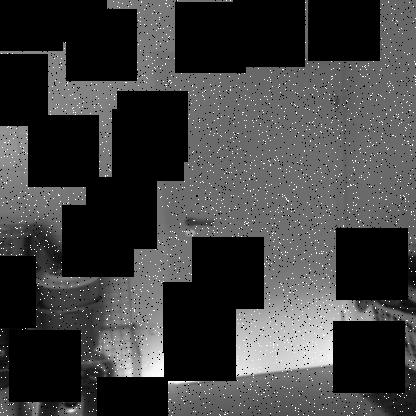Porte: (150, 48, 357, 385)
